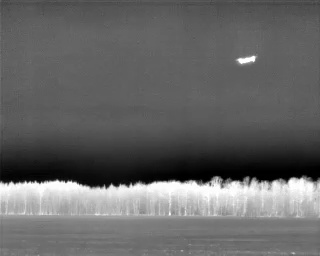DRONE: (232, 50, 261, 70)
